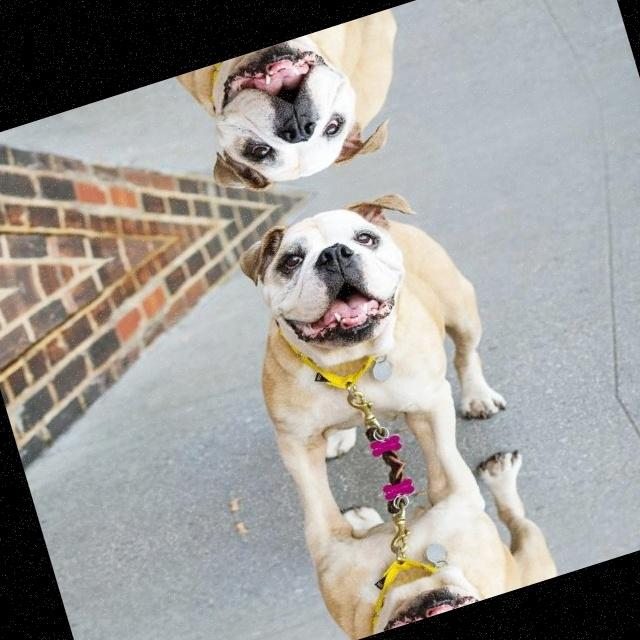dog: (195, 161, 532, 505), (273, 422, 577, 640), (150, 2, 450, 220)
